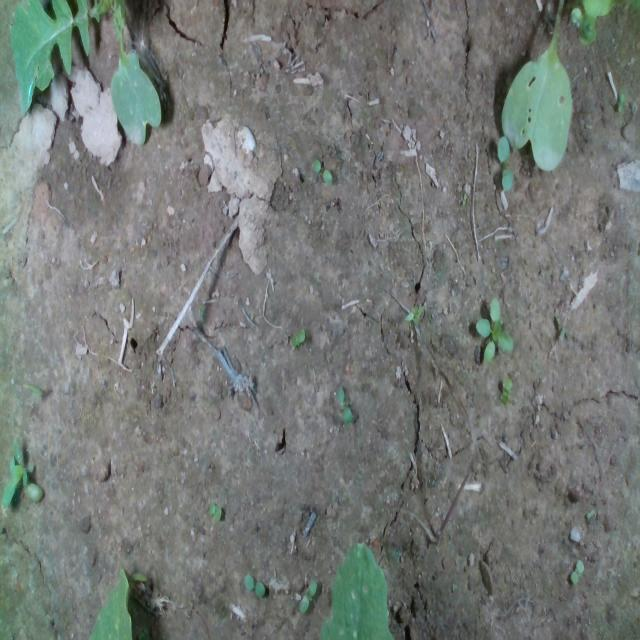weed: (309, 156, 334, 184), (205, 501, 222, 521)
